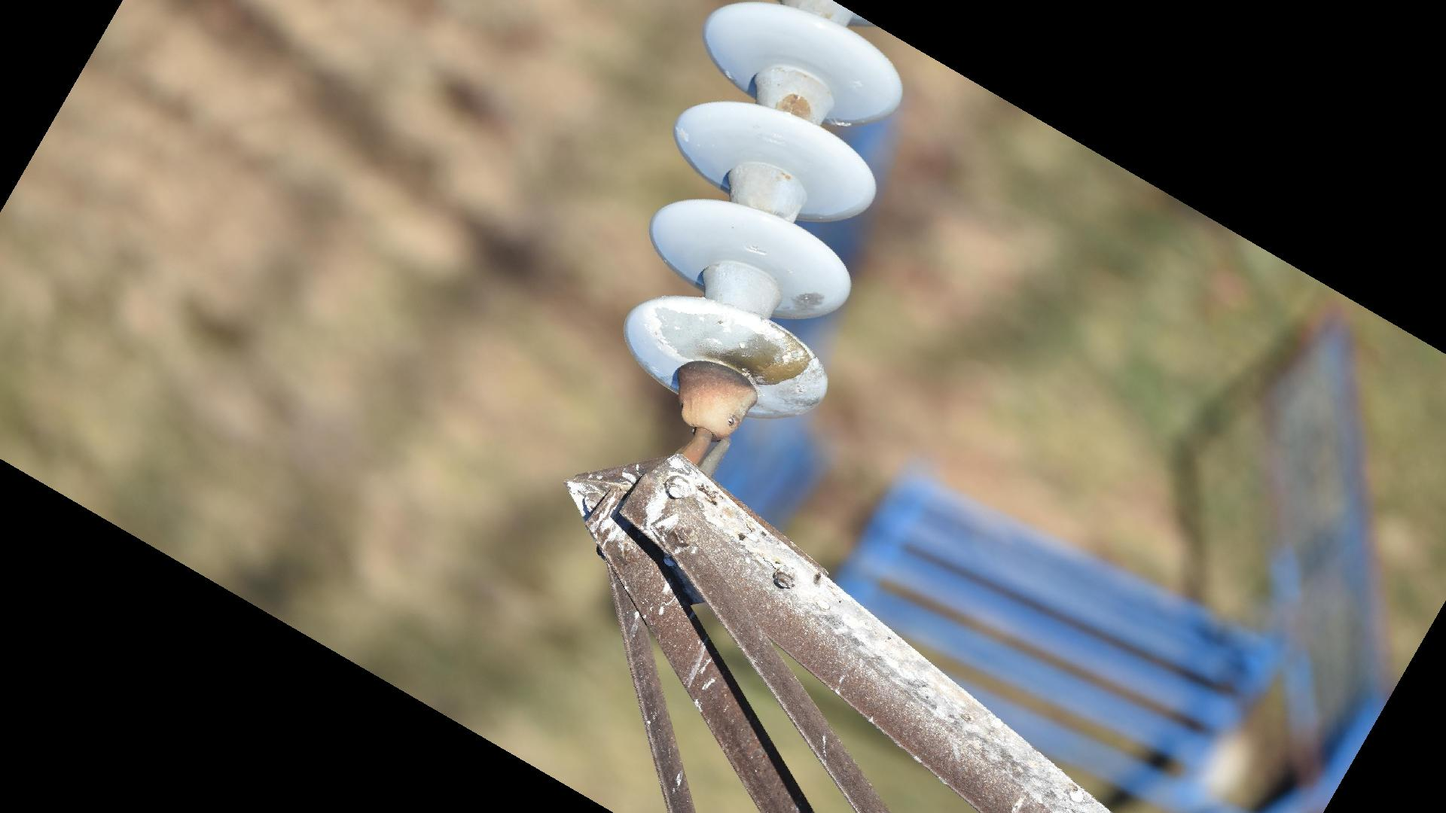insulator: (615, 1, 909, 428)
insulator_flashover: (651, 305, 815, 388)
